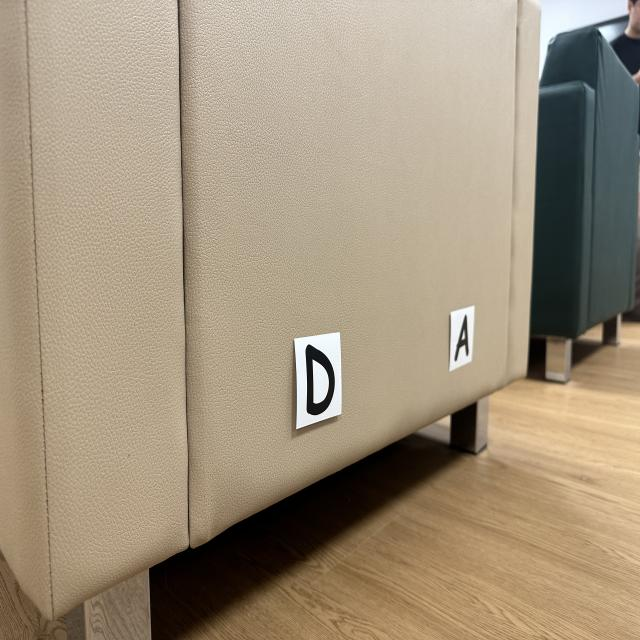A: (454, 315, 469, 362)
D: (305, 345, 335, 415)
